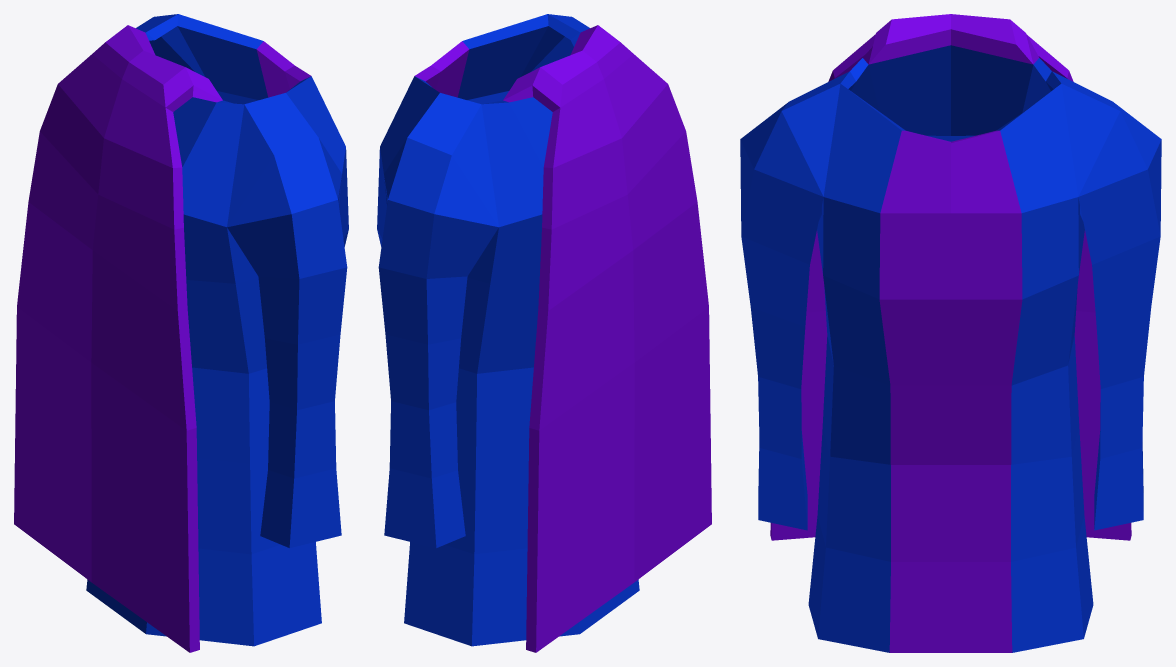
File: Armor_Robe.fbx
3 views of the same model, side by side, from view 1: azimuth 30°, elevation 25°; view 2: azimuth 150°, elevation 25°; view 3: azimuth 270°, elevation 25° (orthographic). The views are drawn at different scales.
Parts seen in each view (by area): view 1: Cube.005; view 2: Cube.005; view 3: Cube.005.
Part boxes in pixels (x1,y1,x2,y2): Cube.005: (14,14,348,652); Cube.005: (377,14,711,652); Cube.005: (740,14,1161,652).
Size of the model in its own units: 125 by 298 by 199.
